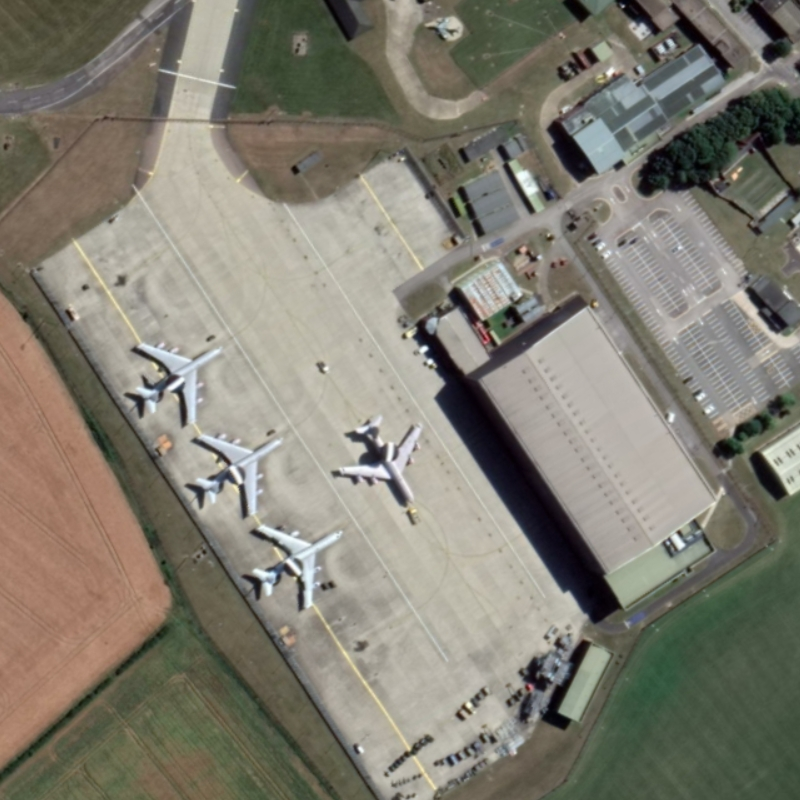A7: (327, 413, 446, 531), (244, 522, 353, 619), (122, 328, 228, 426), (186, 429, 286, 519)
